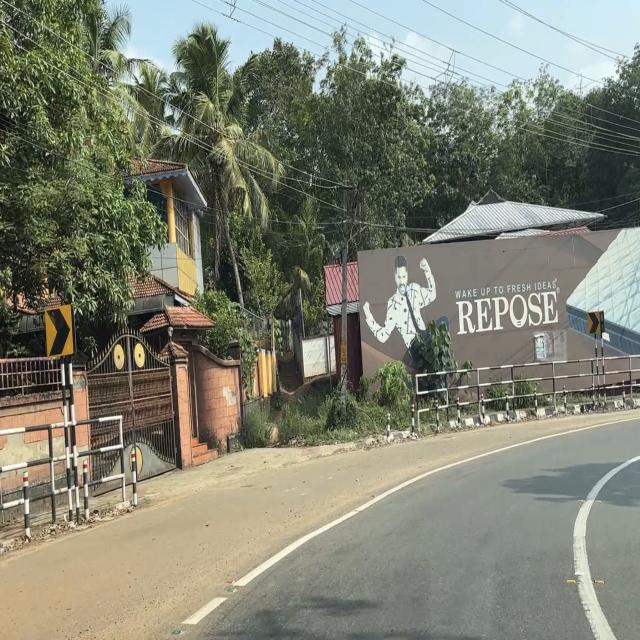TURN_RIGHT: (45, 302, 74, 359), (587, 310, 601, 335)
